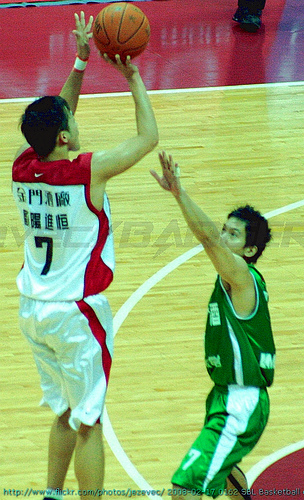basketball: (94, 2, 150, 59)
